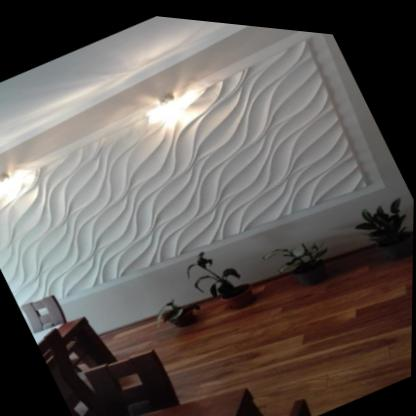Futech tiles: (0, 39, 364, 294)
